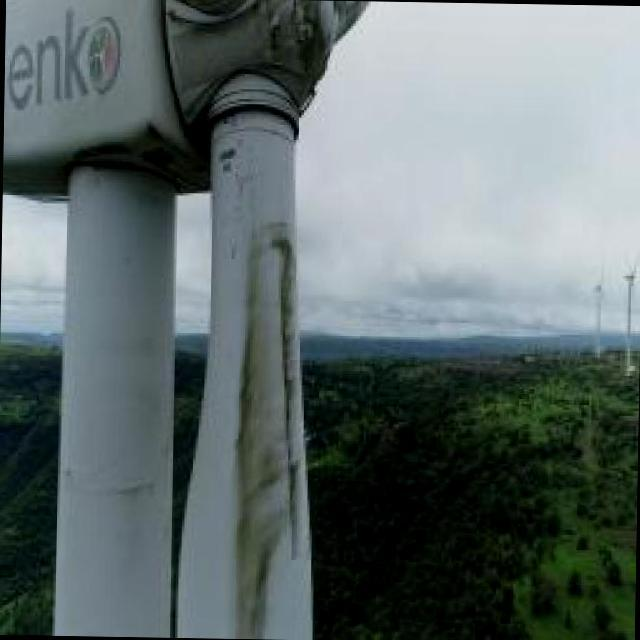Dirt: (220, 135, 303, 638)
